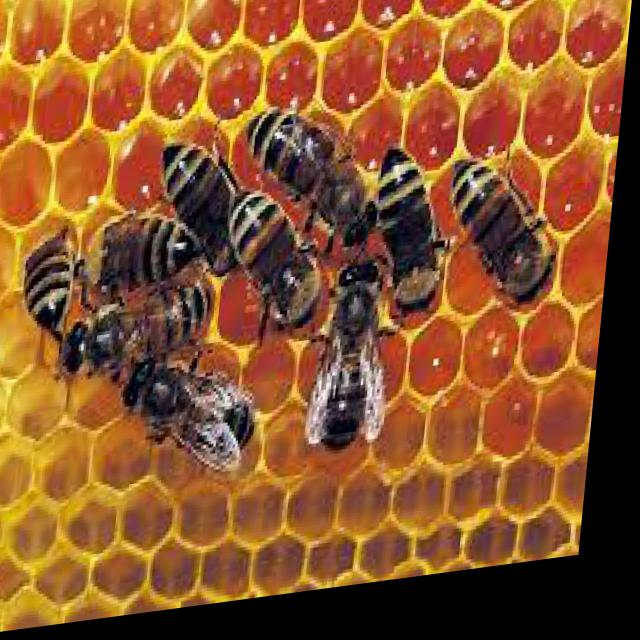Abeille: (237, 87, 398, 281), (115, 330, 286, 504), (443, 148, 580, 332), (155, 123, 272, 291), (365, 145, 466, 338), (58, 276, 231, 388), (318, 243, 409, 454), (9, 204, 103, 344)
